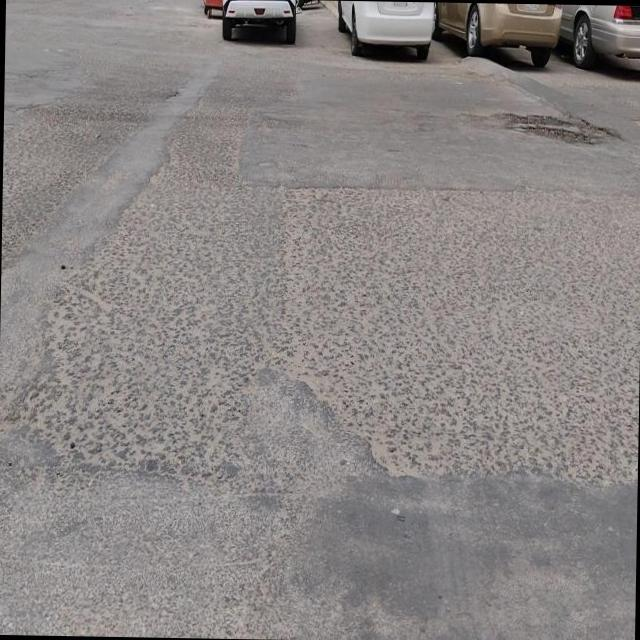Pothole: (503, 109, 598, 144)
